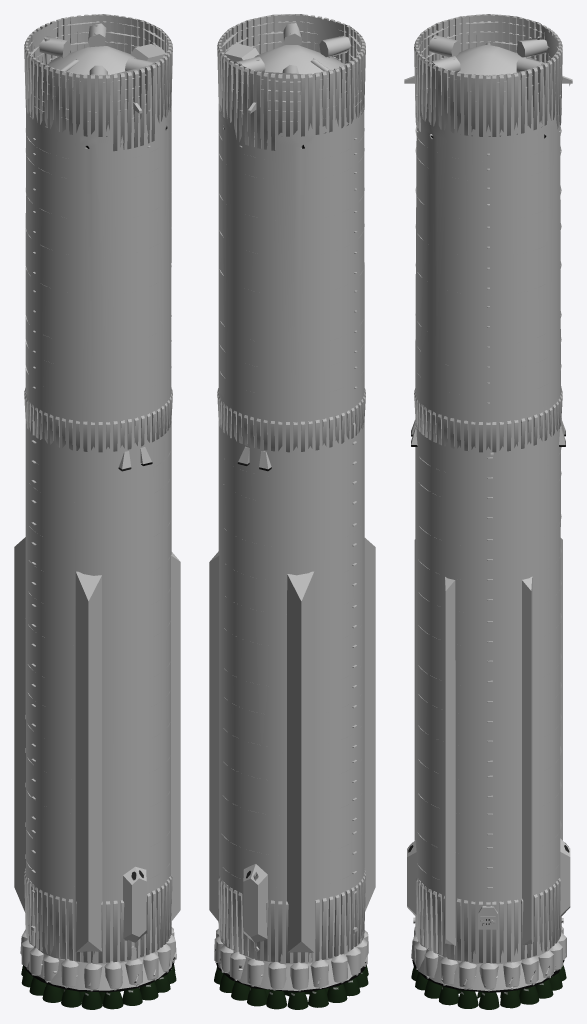
File: starship_super_heavy.glb
3 renders of one model, left to right at view 1: azimuth 30°, elevation 25°; view 2: azimuth 150°, elevation 25°; view 3: azimuth 270°, elevation 25°, orthographic.
Visible parts, largest first — view 1: Object_135, Object_147, Object_142; view 2: Object_135, Object_147; view 3: Object_135, Object_147, Object_142.
Boxes of the visible parts, x1,y1,x2,y2 form: Object_135: (14,14,180,990); Object_147: (21,964,176,1009); Object_142: (23,127,173,992); Object_135: (209,14,375,990); Object_147: (214,965,368,1009); Object_135: (404,14,572,990); Object_147: (411,964,566,1009); Object_142: (411,134,565,992).
Bounding box in the file's own units: 1.97 × 12.93 × 2.1.
17 materials, 1 textured.
